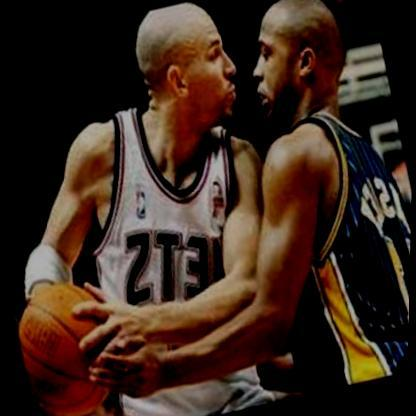basketball: (8, 270, 126, 416)
